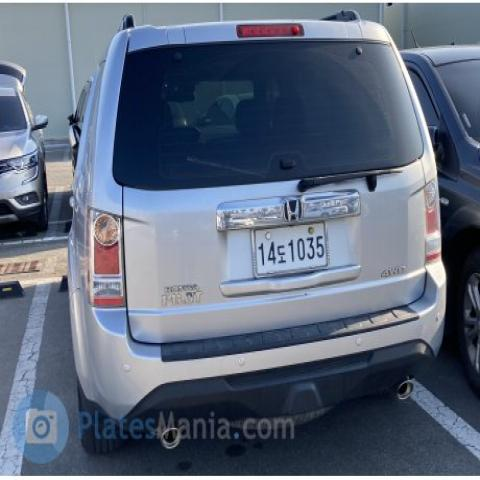LP: (249, 213, 343, 284)
